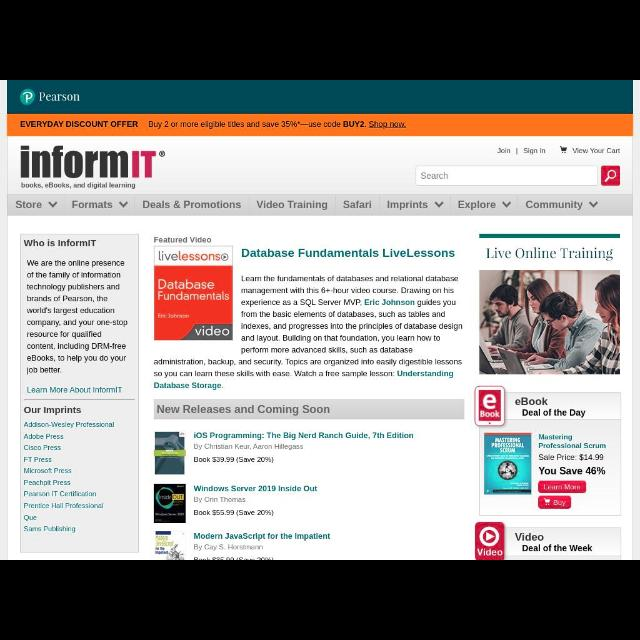button: (602, 167, 620, 186)
icon: (604, 170, 616, 182), (47, 200, 57, 208), (118, 200, 128, 208), (588, 200, 598, 208), (560, 144, 566, 156), (435, 200, 443, 208), (542, 498, 550, 506), (501, 202, 511, 208)
image: (480, 270, 620, 374), (154, 247, 232, 341), (19, 146, 165, 180), (486, 432, 530, 496), (154, 483, 186, 522), (156, 432, 184, 474), (156, 531, 182, 559), (480, 389, 500, 421), (478, 526, 499, 546), (20, 90, 34, 104)
input: (417, 167, 598, 185)
multitab: (10, 194, 632, 214)
spinner: (518, 195, 632, 213), (379, 195, 453, 215), (452, 196, 518, 216), (64, 196, 136, 214), (8, 194, 64, 213)
text: (242, 275, 462, 355), (28, 258, 128, 374), (153, 358, 463, 392), (20, 120, 408, 130), (192, 431, 414, 441), (242, 249, 456, 259), (156, 404, 330, 416), (486, 248, 612, 262), (194, 532, 332, 542), (195, 485, 318, 495), (22, 182, 136, 192), (194, 442, 304, 452), (142, 199, 242, 209), (538, 434, 606, 448), (27, 386, 122, 396), (256, 199, 328, 211), (23, 421, 116, 429), (22, 239, 96, 249), (23, 502, 105, 511), (194, 509, 276, 518), (192, 542, 264, 552), (194, 456, 274, 464), (522, 409, 586, 419), (538, 468, 606, 477), (24, 490, 96, 498), (526, 201, 582, 211), (24, 406, 80, 416), (538, 453, 604, 461), (154, 234, 210, 243), (458, 200, 497, 212), (23, 468, 72, 477), (386, 200, 428, 210), (522, 546, 592, 552), (24, 525, 76, 533), (73, 200, 114, 210), (195, 496, 245, 504), (574, 147, 620, 155), (24, 479, 70, 486), (40, 93, 80, 101), (342, 200, 373, 210), (542, 484, 580, 492), (24, 444, 61, 452), (419, 171, 448, 181), (24, 434, 64, 441), (514, 398, 548, 406), (15, 201, 42, 211), (515, 534, 543, 542), (523, 148, 545, 156), (23, 456, 52, 462), (496, 145, 512, 155), (476, 549, 502, 555), (23, 514, 37, 522), (552, 499, 566, 507)
textbutton: (540, 482, 584, 494), (539, 496, 571, 508)
toolbar: (8, 137, 632, 196)
